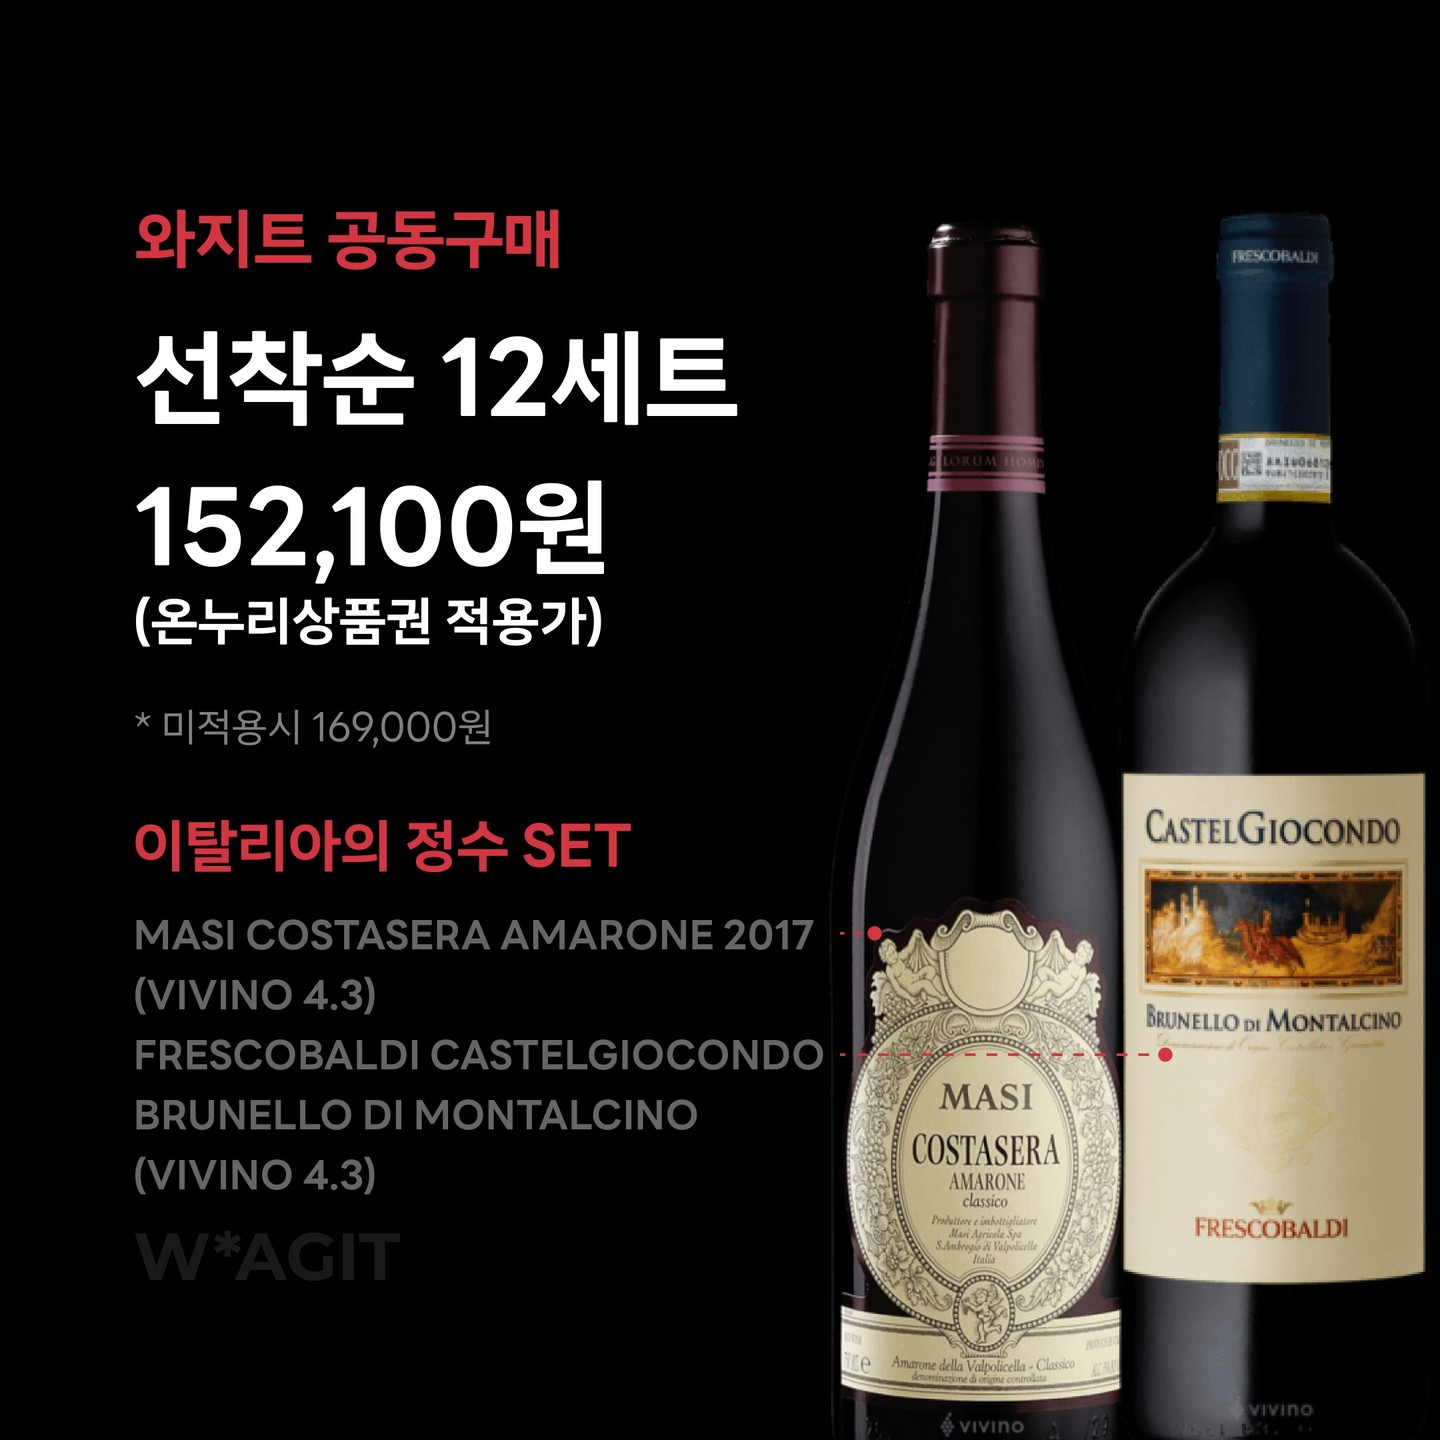alcohol: (1106, 204, 1440, 1440), (814, 203, 1124, 1440)
